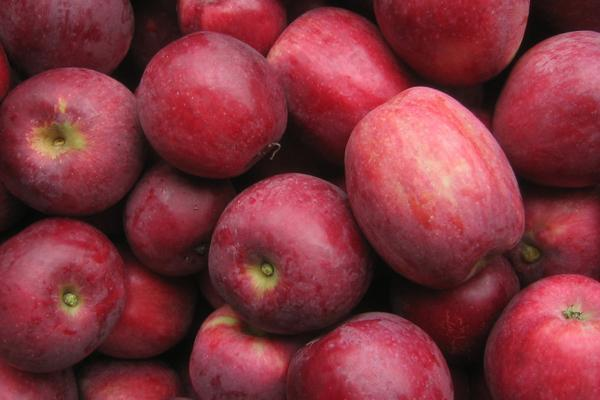apple: (340, 86, 524, 286), (201, 175, 368, 336), (135, 30, 290, 181), (266, 6, 411, 162), (4, 64, 143, 220), (1, 221, 127, 376), (492, 29, 598, 188), (481, 271, 598, 398), (283, 311, 452, 396), (373, 1, 529, 89), (126, 165, 238, 275), (1, 1, 134, 82), (186, 306, 296, 397)
